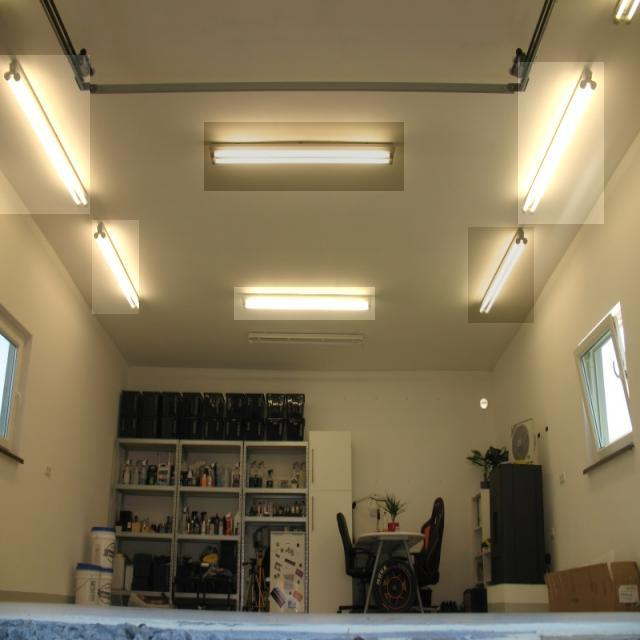fan: (510, 416, 537, 464)
light: (3, 57, 89, 206), (520, 63, 596, 214), (208, 142, 396, 165), (92, 221, 140, 311), (478, 228, 527, 314)
